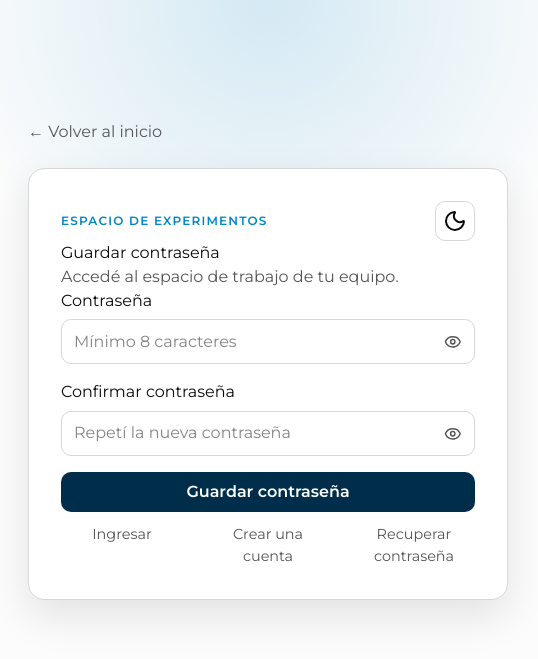
Test: application routes › keeps an invalid linked-token API error on the confirmation form in Spanish
In the password field labelled "Contraseña": (268, 342) left=61, top=319, right=475, bottom=364, type "contraseña-segura"
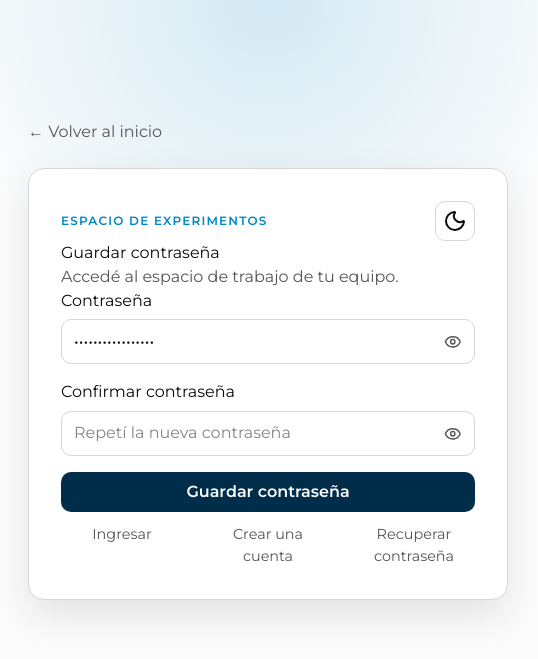
In the password field labelled "Confirmar contraseña": (268, 433) left=61, top=411, right=475, bottom=456, type "contraseña-segura"
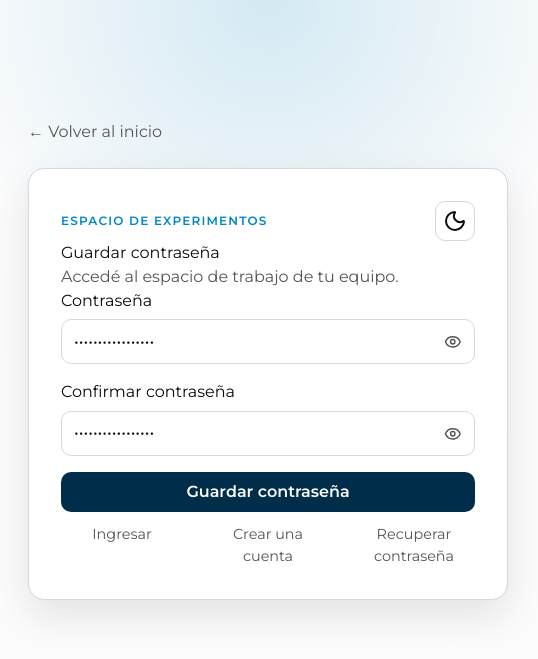
Click the button "Guardar contraseña": (268, 492) left=61, top=472, right=475, bottom=512
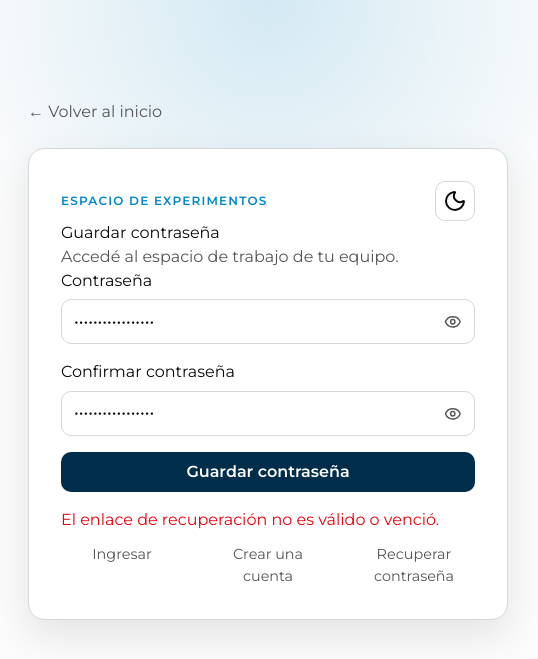
Check: the heading "Guardar contraseña" is shown, box left=61, top=223, right=220, bottom=242
Check: the message reads "El enlace de recuperación no es válido o venció.", box left=61, top=510, right=439, bottom=529
